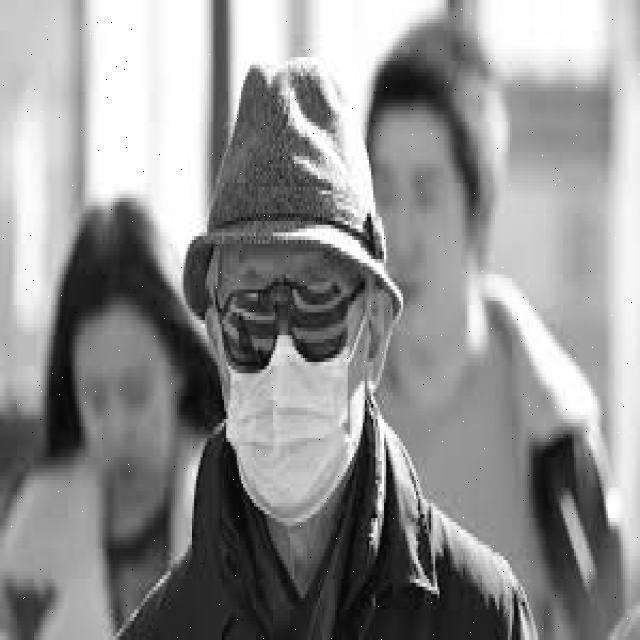fake: (220, 330, 373, 527), (217, 276, 355, 371)
